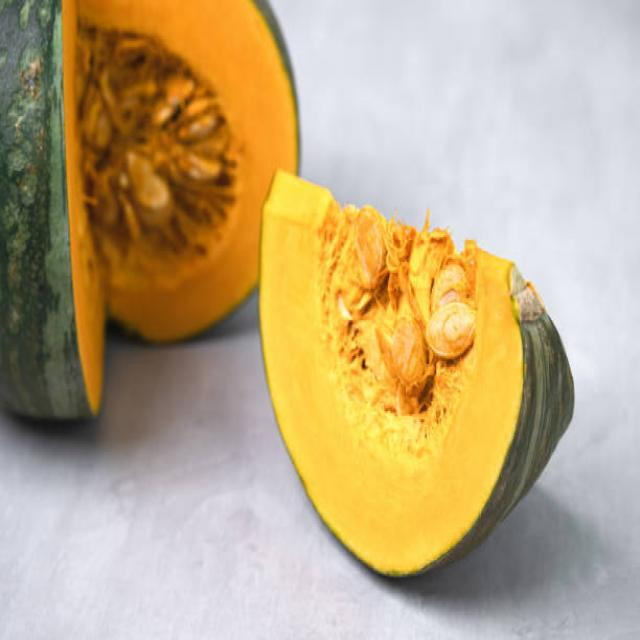pumpkin: (257, 172, 576, 588), (0, 0, 259, 426)
